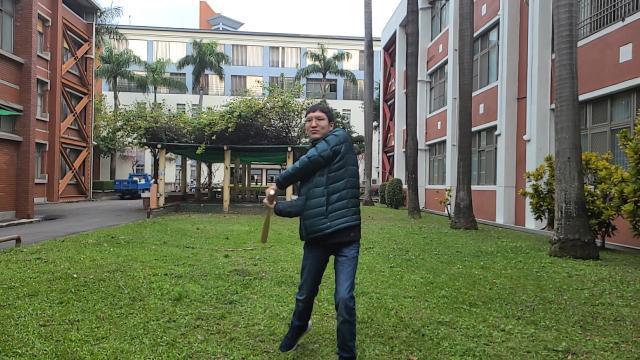bat: (259, 207, 275, 244)
